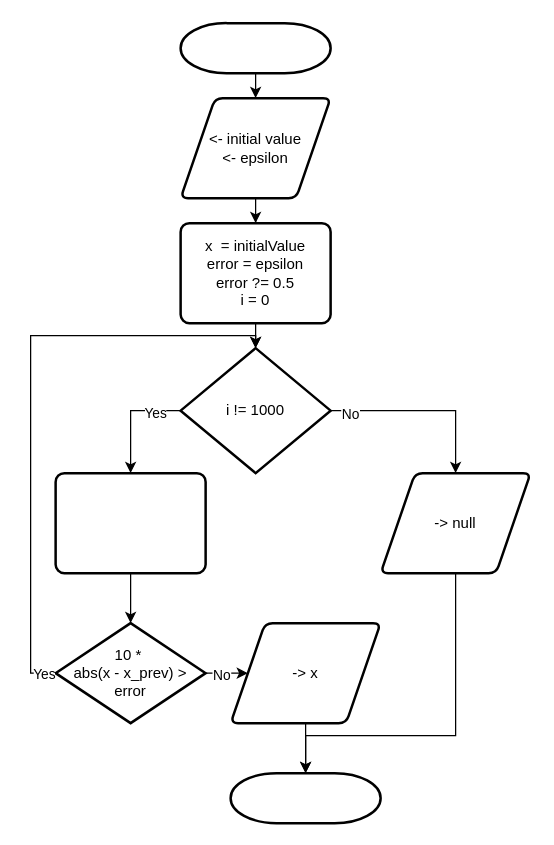
Some shapes in this 554 by 845 pixel diagram are drawn without their labels. Each missing label, with the box of its shape:
end: (229, 771, 381, 824)
start: (179, 21, 331, 74)
x_prev = x x = sqrt(-cos(x) + 2 + sin(x)) i++: (54, 471, 206, 574)
